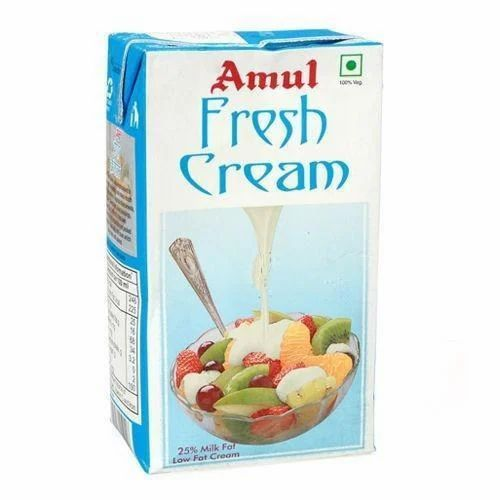Amul: (205, 56, 323, 94)
